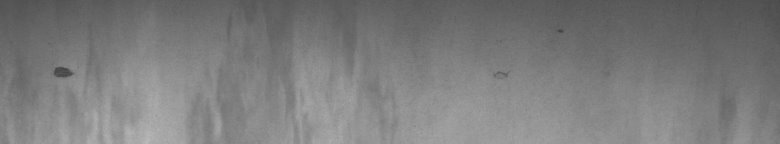fi: (49, 60, 97, 120)
